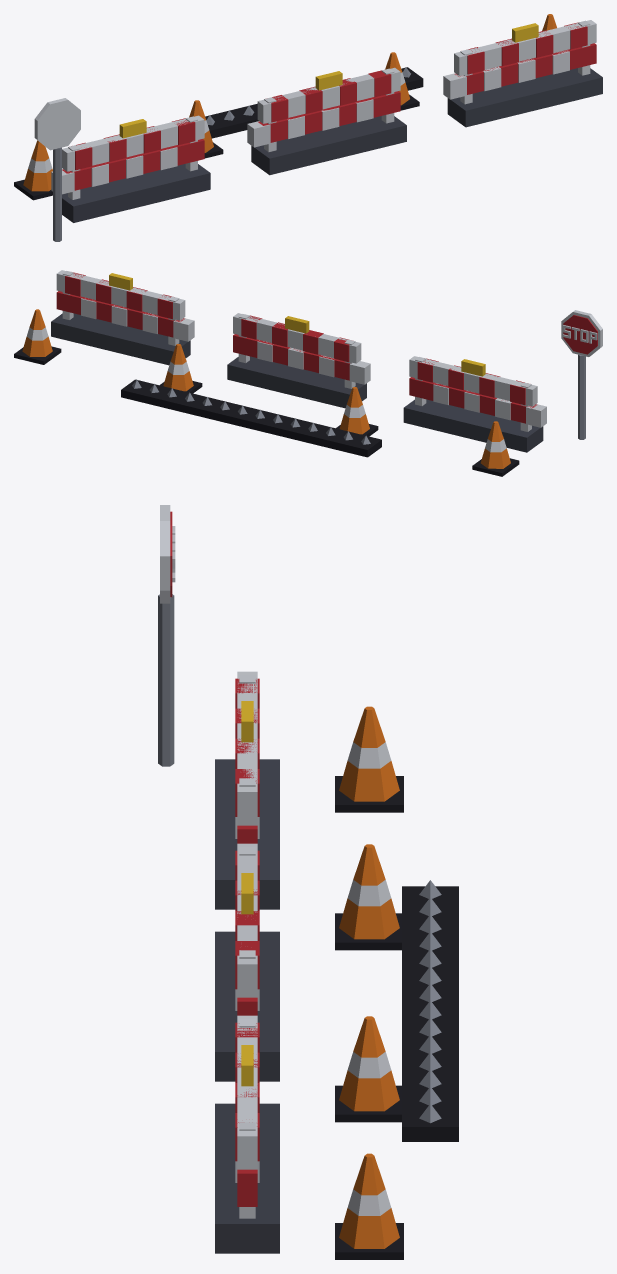
File: Decor_PoliceStation_Roadblock.fbx
3 views of the same model, one above another, from view 1: azimuth 30°, elevation 25°; view 2: azimuth 150°, elevation 25°; view 3: azimuth 270°, elevation 25° (orthographic). The views are drawn at different scales.
Parts seen in each view (by area): view 1: Roadblock_Body; view 2: Roadblock_Body; view 3: Roadblock_Body.
Boxes of the visible parts, x1,y1,x2,y2 form: Roadblock_Body: [14, 14, 602, 241]; Roadblock_Body: [14, 270, 602, 476]; Roadblock_Body: [158, 505, 458, 1259].
Size of the model in its own units: 30 by 6.8 by 7.4.
